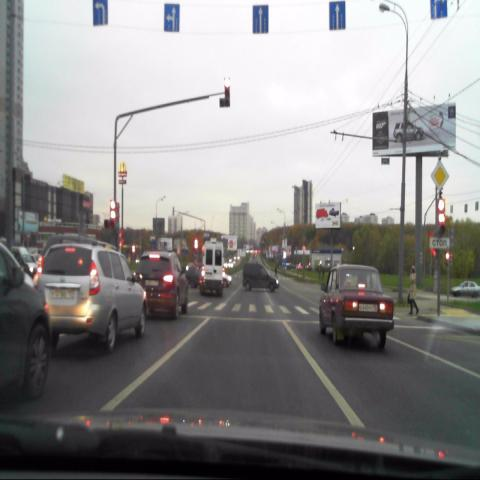2_1: (430, 162, 449, 193)
